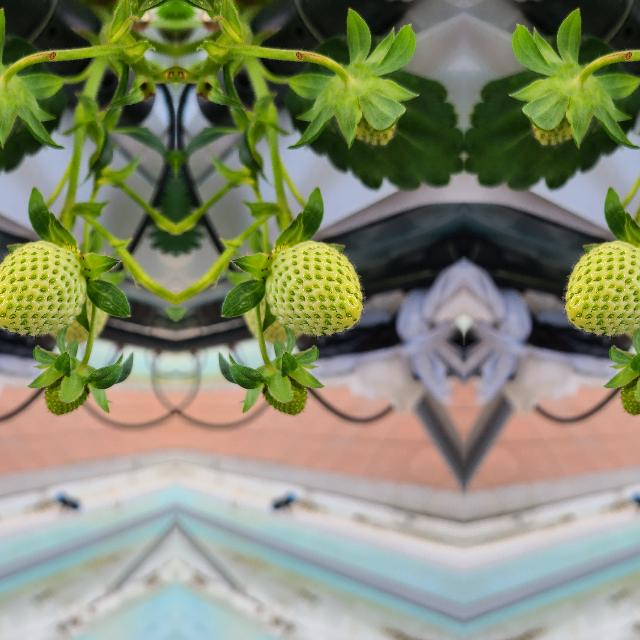Health_25: (264, 241, 362, 335), (0, 241, 85, 335), (564, 241, 640, 335)
